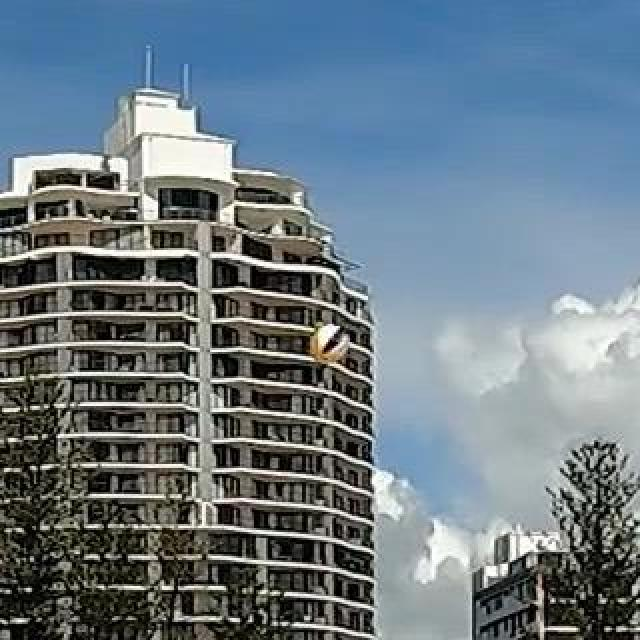volleyball: (310, 323, 348, 361)
